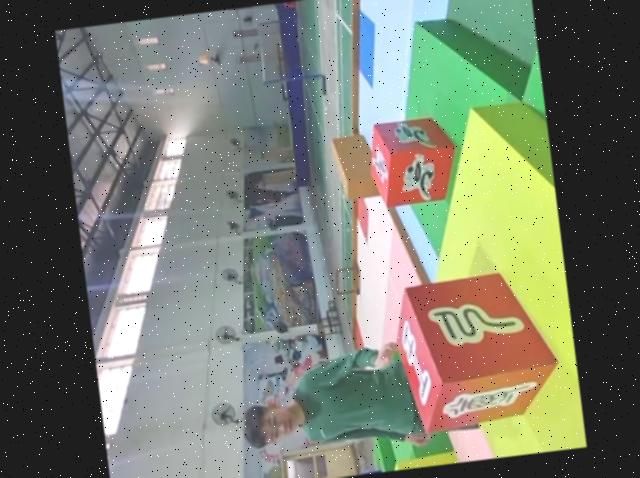R1: (361, 107, 459, 214)
R2 Fake: (388, 263, 563, 437)
